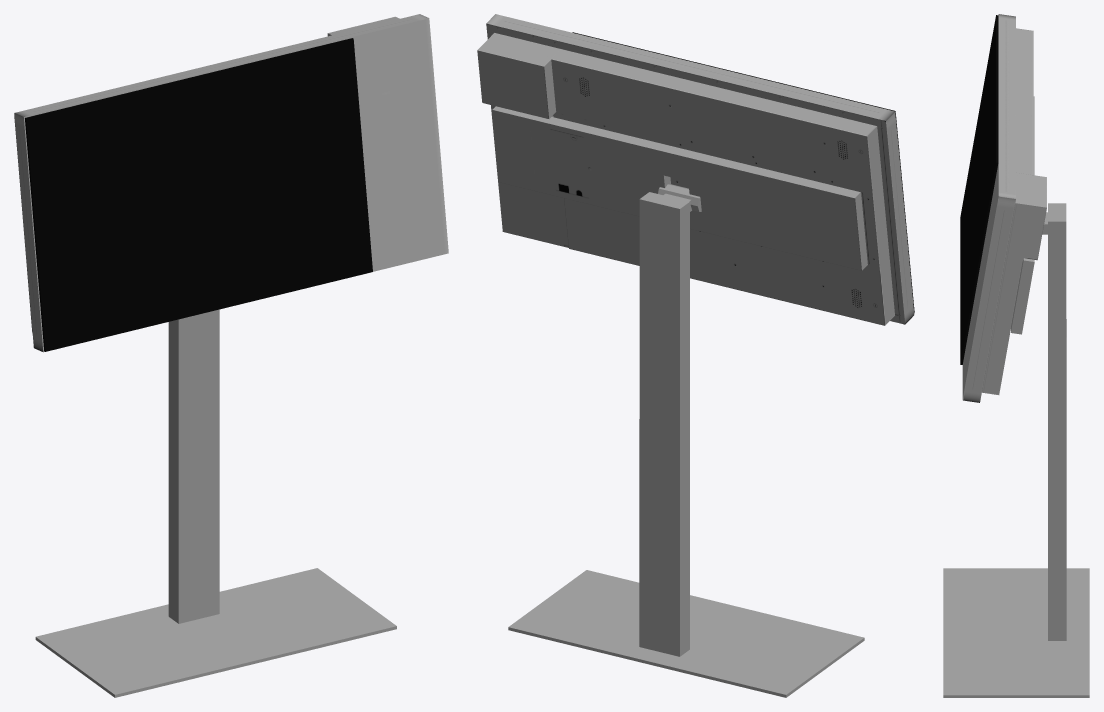
File: UTK_523hst.fbx
3 renders of one model, left to right at view 1: azimuth 30°, elevation 25°; view 2: azimuth 150°, elevation 25°; view 3: azimuth 270°, elevation 25°, orthographic. The views are drawn at different scales.
Visible parts, largest first — view 1: F, A, B; view 2: A, D, E, B, C; view 3: A, B, F, C, D, E.
Boxes of the visible parts, box(x1,y1,x2,y2) form: F: box(25, 38, 372, 351); A: box(35, 309, 396, 697); B: box(14, 14, 448, 352); A: box(508, 184, 864, 697); D: box(551, 49, 894, 325); E: box(492, 106, 867, 270); B: box(486, 14, 914, 324); C: box(477, 33, 568, 247); A: box(943, 203, 1089, 697); B: box(962, 14, 1015, 402); F: box(960, 15, 998, 364); C: box(982, 172, 1046, 394); D: box(1016, 28, 1033, 175); E: box(1011, 96, 1034, 334).
Bounding box in the file's own units: 97.74 × 132 × 33.17.
1 material, 1 textured.
